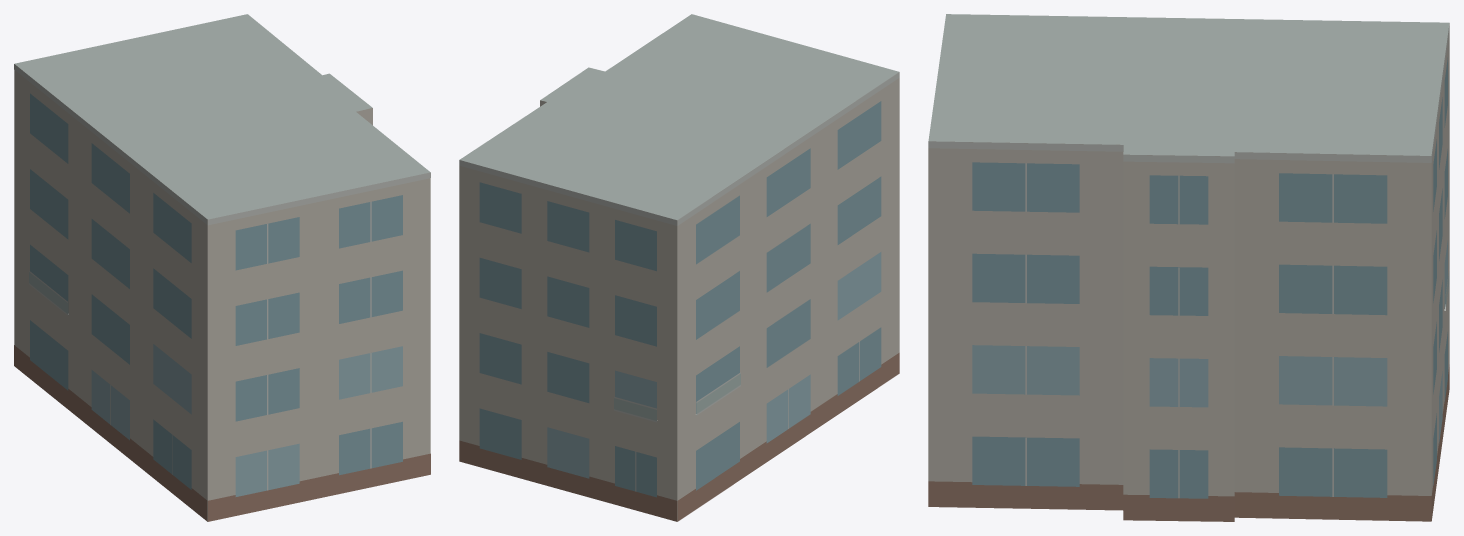
File: survey-upis-32881887.glb
The picture shows the model from 3 angles, left to right: view 1: azimuth 30°, elevation 25°; view 2: azimuth 150°, elevation 25°; view 3: azimuth 270°, elevation 25°; orthographic projection. The views are drawn at different scales.
Parts seen in each view (by area): view 1: survey-upis-32881887.tmp; view 2: survey-upis-32881887.tmp; view 3: survey-upis-32881887.tmp.
Boxes of the visible parts, x1,y1,x2,y2 form: survey-upis-32881887.tmp: [14, 14, 430, 521]; survey-upis-32881887.tmp: [459, 14, 899, 521]; survey-upis-32881887.tmp: [928, 14, 1449, 521].
Size of the model in its own units: 10.7 by 12.8 by 16.55.
